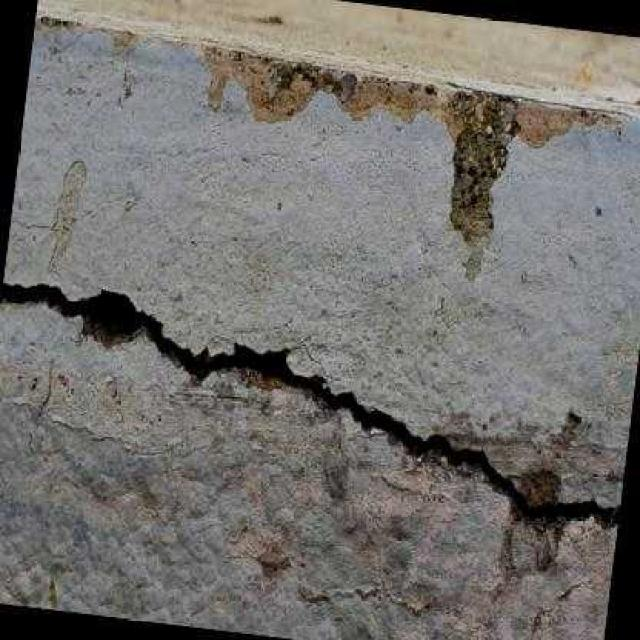D00: (0, 281, 620, 531)
